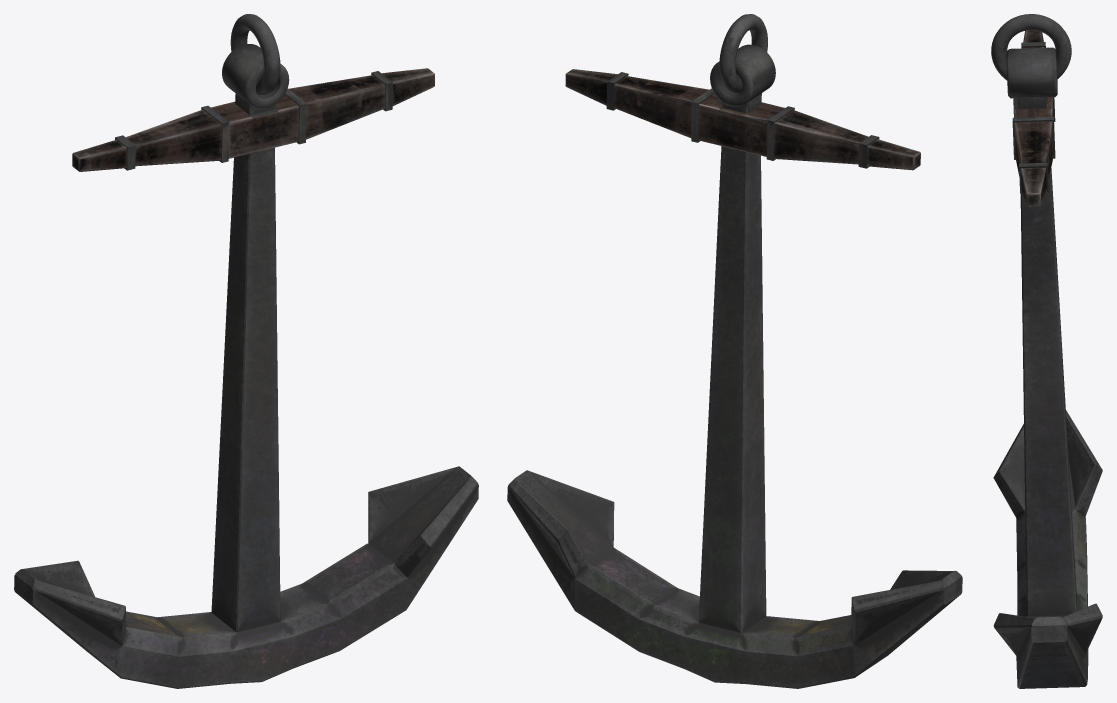
Rendered from shipanchor.glb.
3 views of the same model, side by side, from view 1: azimuth 30°, elevation 25°; view 2: azimuth 150°, elevation 25°; view 3: azimuth 270°, elevation 25° (orthographic). The views are drawn at different scales.
Visible parts, largest first — view 1: Object_4, Object_3, Object_2; view 2: Object_4, Object_3, Object_2; view 3: Object_4, Object_2, Object_3.
Boxes of the visible parts, x1,y1,x2,y2 form: Object_4: [14, 93, 478, 688]; Object_3: [72, 68, 434, 171]; Object_2: [222, 14, 289, 108]; Object_4: [507, 93, 962, 688]; Object_3: [565, 69, 920, 170]; Object_2: [710, 14, 775, 106]; Object_4: [993, 96, 1102, 688]; Object_2: [991, 14, 1071, 98]; Object_3: [1012, 30, 1055, 206].
Size of the model in its own units: 121 by 172 by 27.07.
Materials: 3 (3 with a texture image).
